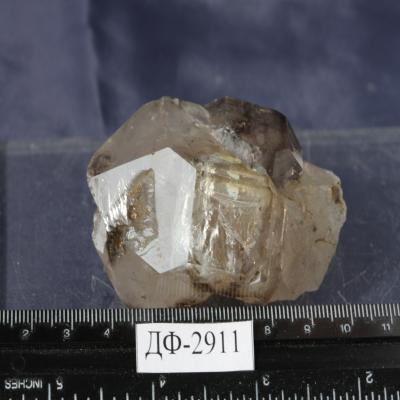mineralogy: (85, 96, 347, 310)
